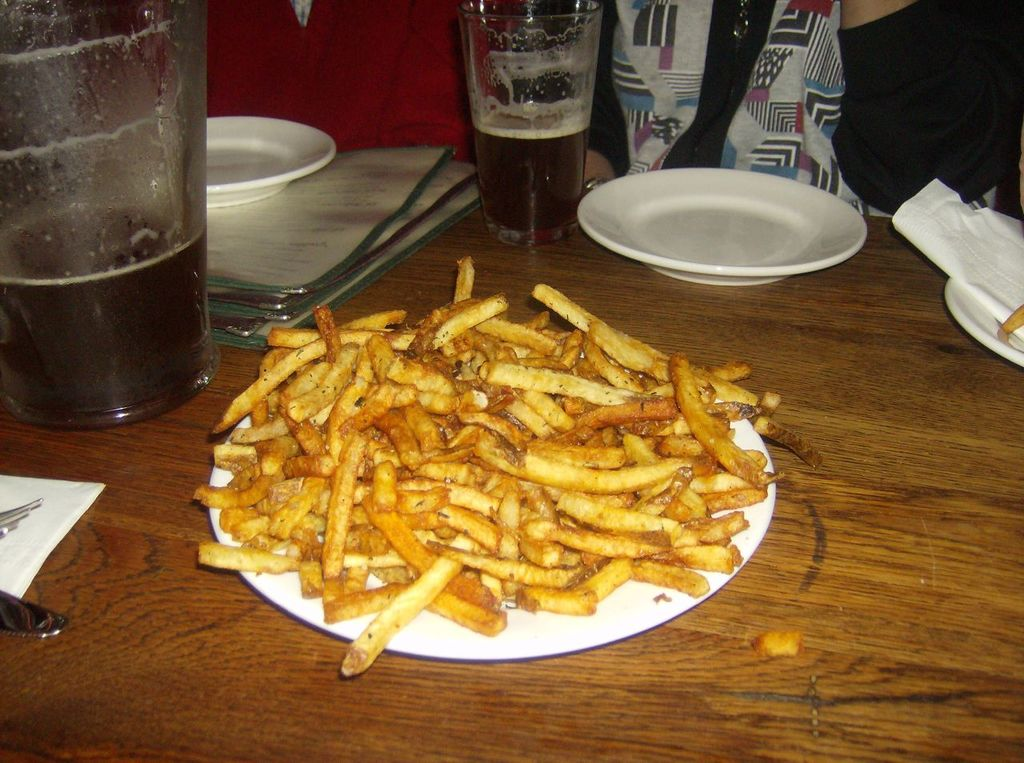French fries: (192, 253, 823, 676)
